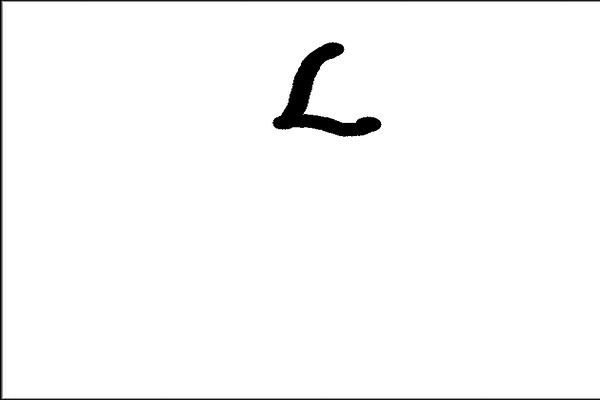L: (264, 36, 391, 141)
